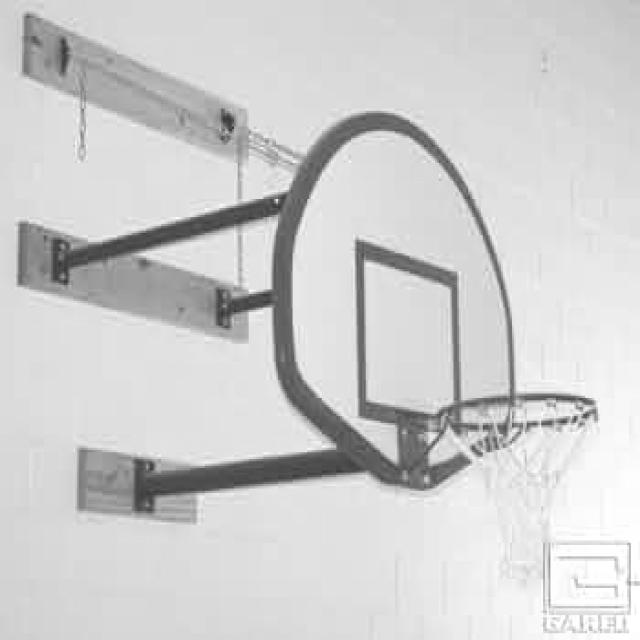backboard: (280, 120, 513, 489)
